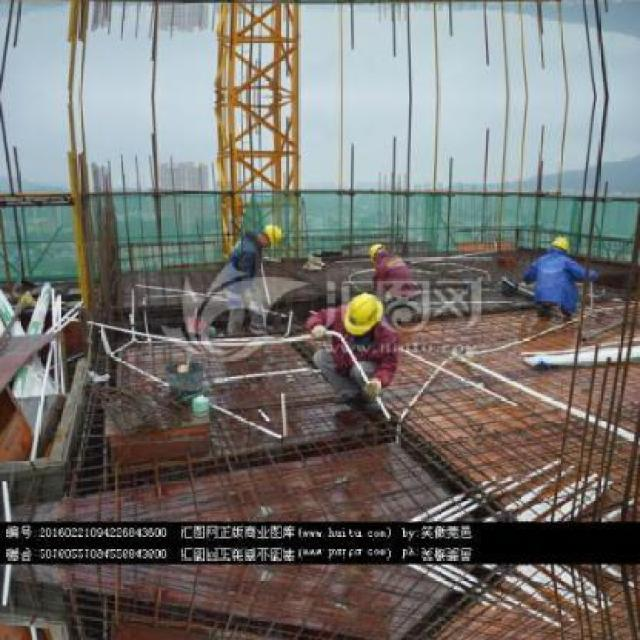helmet: (345, 291, 383, 334), (263, 220, 285, 252), (366, 239, 383, 266), (551, 232, 569, 252)
